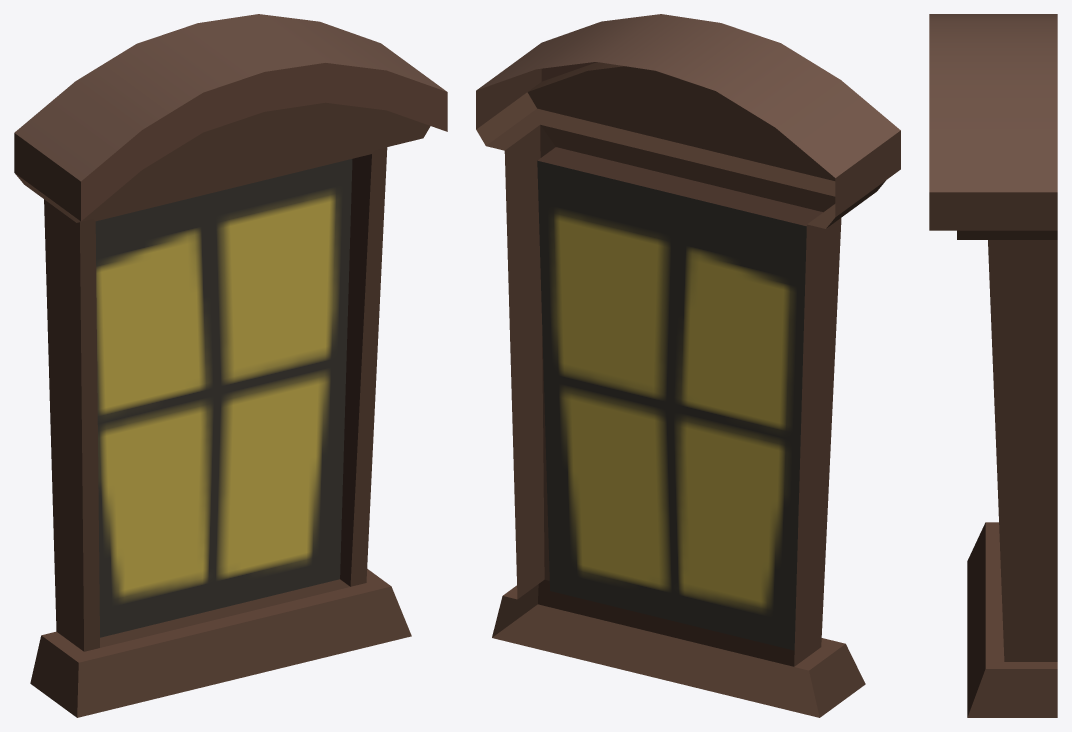
The model's file is Window_E07.fbx.
The picture shows the model from 3 angles, left to right: view 1: azimuth 30°, elevation 25°; view 2: azimuth 150°, elevation 25°; view 3: azimuth 270°, elevation 25°; orthographic projection. The views are drawn at different scales.
Visible parts, largest first — view 1: Window_E07; view 2: Window_E07; view 3: Window_E07.
Boxes of the visible parts, x1,y1,x2,y2 form: Window_E07: (14,14,447,717); Window_E07: (476,14,900,717); Window_E07: (929,14,1057,717).
Bounding box in the file's own units: 181 × 292 × 56.94.
